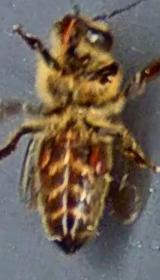varroa_mite: (74, 135, 128, 184)
